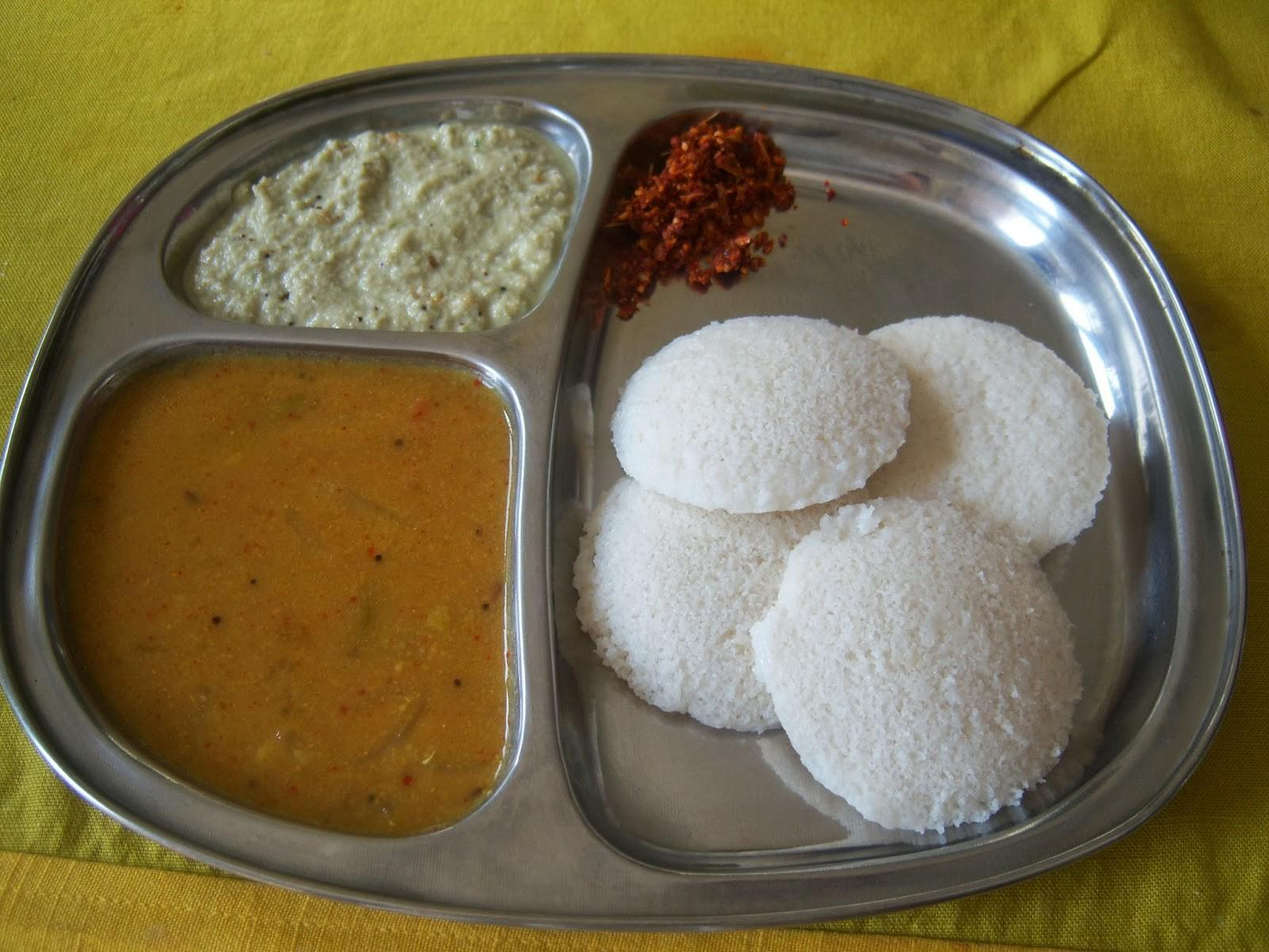Idli: (760, 499, 1085, 831), (879, 311, 1109, 565), (588, 475, 816, 731), (617, 313, 907, 514)
